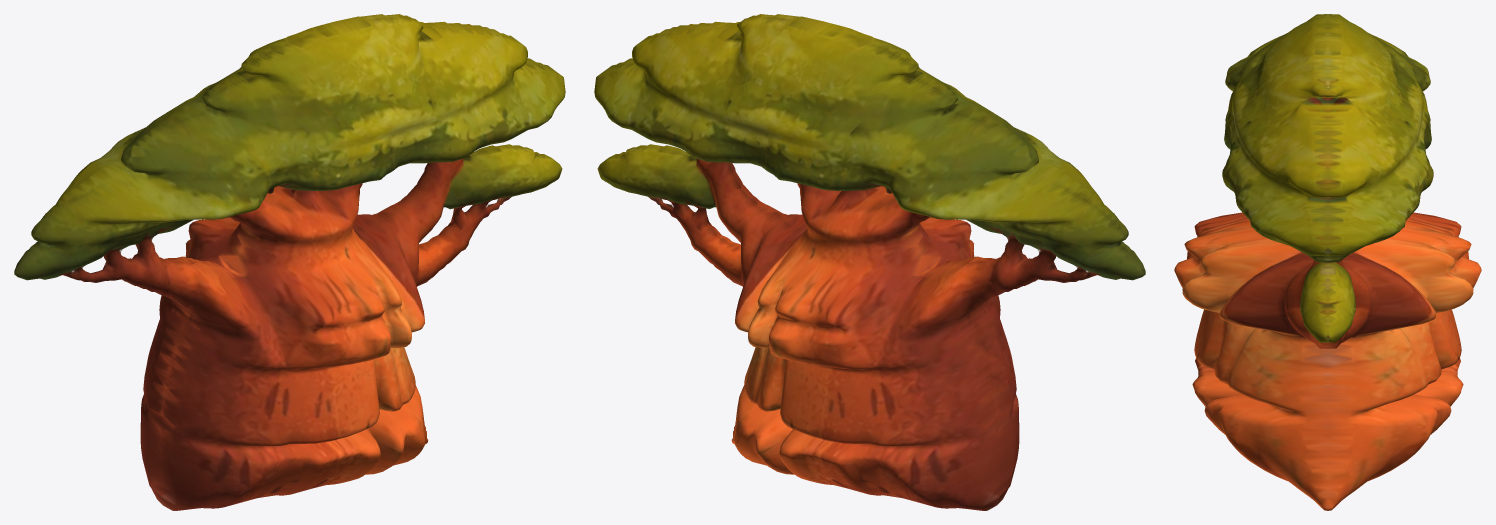
The model's file is 03_baobab_trees_r00_c01.glb.
The picture shows the model from 3 angles, left to right: view 1: azimuth 30°, elevation 25°; view 2: azimuth 150°, elevation 25°; view 3: azimuth 270°, elevation 25°; orthographic projection.
Parts seen in each view (by area): view 1: 03_baobab_trees_r00_c01; view 2: 03_baobab_trees_r00_c01; view 3: 03_baobab_trees_r00_c01.
Boxes of the visible parts, x1,y1,x2,y2 form: 03_baobab_trees_r00_c01: (14, 14, 565, 510); 03_baobab_trees_r00_c01: (594, 14, 1145, 510); 03_baobab_trees_r00_c01: (1174, 14, 1481, 510).
Bounding box in the file's own units: 4.84 × 3.69 × 2.4.
1 material, 1 textured.
